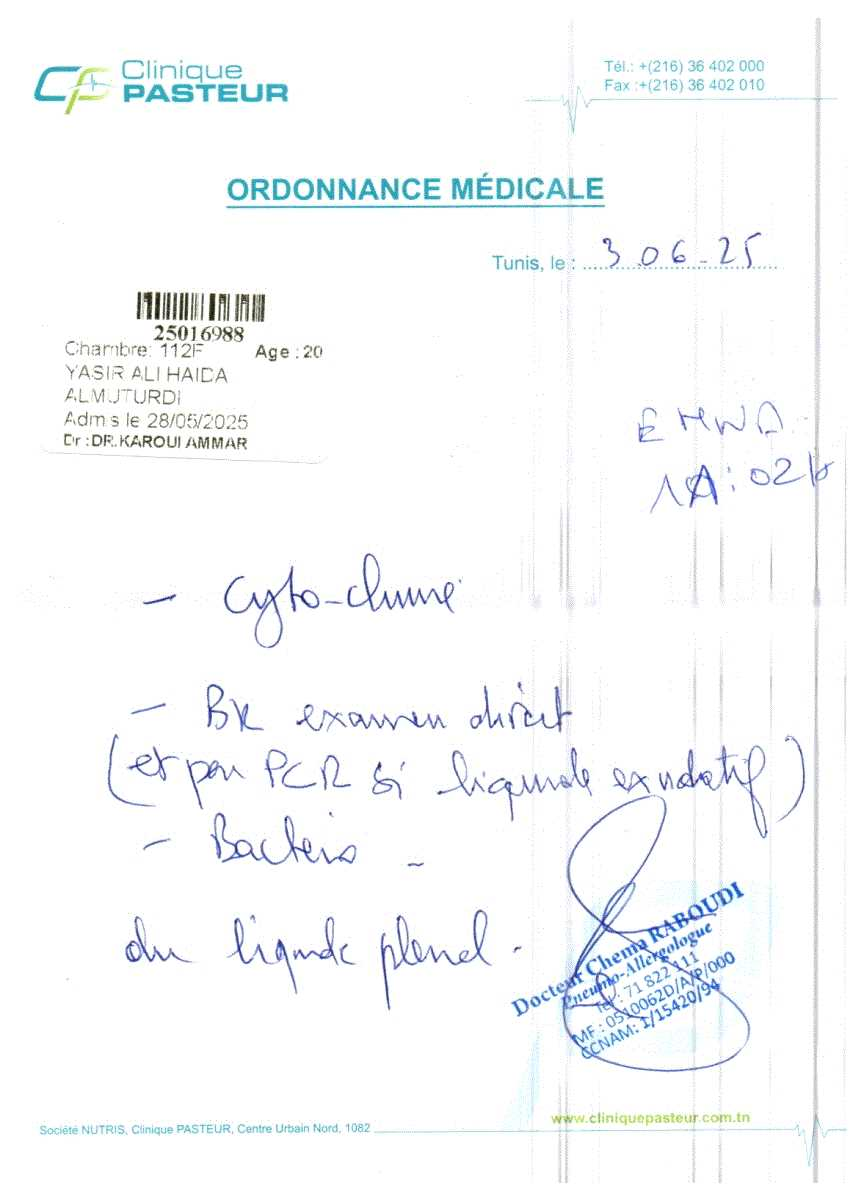zone_analyses: (91, 501, 818, 1012)
zone_cachet: (486, 1001, 797, 1108)
zone_date: (456, 220, 805, 304), (34, 405, 251, 430)
zone_patient: (48, 341, 338, 405)
zone_prescripteur: (13, 2, 788, 141), (25, 1109, 790, 1149), (56, 429, 254, 458)
